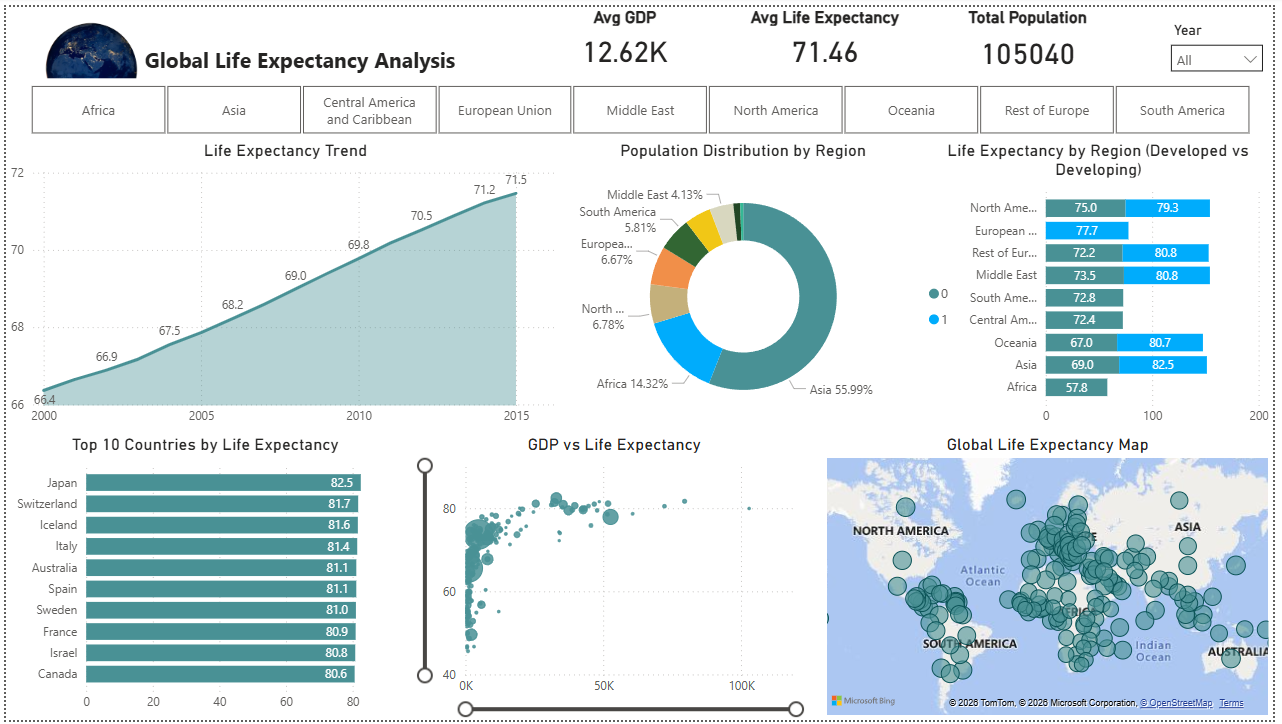

This screenshot's page, from the dashboard's own definition file:
{"tool":"powerbi","page":{"name":"Page 1","canvas":[1280,720],"ordinal":0},"visuals":[{"type":"textbox","box":[0,0,523.2,80.8],"z":0},{"type":"kpi","title":"Avg GDP","fields":{"Indicator":["DateTable.Avg GDP"],"TrendLine":["DateTable.Year"]},"box":[531.3,0,187.4,72.7],"z":0,"group":"g4"},{"type":"barChart","title":"Top 10 Countries by Life Expectancy","fields":{"Y":["DateTable.Avg Life Expectancy"],"Category":["Life-Expectancy-Data-Updated.Country"]},"box":[0,431.3,402.9,288.9],"z":0,"group":"g5"},{"type":"image","box":[28.3,0,115.2,80.8],"z":1000},{"type":"kpi","title":"Avg Life Expectancy","fields":{"Indicator":["DateTable.Avg Life Expectancy"],"TrendLine":["DateTable.Year"]},"box":[727.4,0,199.9,72.7],"z":1000,"group":"g4"},{"type":"scatterChart","title":"GDP vs Life Expectancy","fields":{"X":["DateTable.Avg GDP"],"Y":["DateTable.Avg Life Expectancy"],"Size":["DateTable.Total Population"],"Category":["Life-Expectancy-Data-Updated.Country"]},"box":[411.9,431.3,404.9,288.9],"z":1000,"group":"g5"},{"type":"card","title":"Total Population","fields":{"Values":["DateTable.Total Population"]},"box":[936.9,0,189.3,72.7],"z":2000,"group":"g4"},{"type":"group","id":"g1","title":"Group 1","box":[0,134.3,1279.8,297],"z":2000},{"type":"map","title":"Global Life Expectancy Map","fields":{"Category":["Life-Expectancy-Data-Updated.Country"],"Size":["DateTable.Avg Life Expectancy"]},"box":[823.9,431.3,455.9,288.9],"z":2000,"group":"g5"},{"type":"slicer","title":"Year","fields":{"Values":["DateTable.Year"]},"box":[1166.7,10.1,113.1,75.8],"z":3000},{"type":"lineChart","title":"Life Expectancy Trend","fields":{"Y":["DateTable.Avg Life Expectancy"],"Category":["DateTable.Year"]},"box":[0,134.3,565,297.1],"z":3000,"group":"g1"},{"type":"slicer","fields":{"Values":["Life-Expectancy-Data-Updated.Region"]},"box":[0,72.7,1279.8,61.6],"z":4000},{"type":"group","id":"g2","title":"Group 2","box":[531.3,0,594.9,72.7],"z":5000},{"type":"donutChart","title":"Population Distribution by Region","fields":{"Category":["Life-Expectancy-Data-Updated.Region"],"Y":["DateTable.Total Population"]},"box":[573,134.3,344,297.1],"z":5000,"group":"g1"},{"type":"group","id":"g3","title":"Group 3","box":[0,431.3,1279.8,288.9],"z":6000},{"type":"group","id":"g4","title":"Group 5","box":[531.3,0,594.9,72.7],"z":6001,"group":"g2"},{"type":"group","id":"g5","title":"Group 4","box":[0,431.3,1279.8,288.9],"z":6001,"group":"g3"},{"type":"barChart","title":"Life Expectancy by Region (Developed vs Developing)","fields":{"Category":["Life-Expectancy-Data-Updated.Region"],"Y":["DateTable.Avg Life Expectancy"],"Series":["Life-Expectancy-Data-Updated.developied & developoing"]},"box":[926,134.3,354,297.1],"z":8000,"group":"g1"}]}

Visuals, with their boxes in screenshot pixels (x1, y1, x2, y2), scaled from the page's 1280x720 canvas onto the 1282x724 screenshot:
textbox: {"left": 0, "top": 0, "right": 524, "bottom": 81}
"Avg GDP" kpi: {"left": 532, "top": 0, "right": 720, "bottom": 73}
"Top 10 Countries by Life Expectancy" barChart: {"left": 0, "top": 434, "right": 404, "bottom": 723}
image: {"left": 28, "top": 0, "right": 144, "bottom": 81}
"Avg Life Expectancy" kpi: {"left": 729, "top": 0, "right": 929, "bottom": 73}
"GDP vs Life Expectancy" scatterChart: {"left": 413, "top": 434, "right": 818, "bottom": 723}
"Total Population" card: {"left": 938, "top": 0, "right": 1128, "bottom": 73}
"Group 1" group: {"left": 0, "top": 135, "right": 1281, "bottom": 434}
"Global Life Expectancy Map" map: {"left": 825, "top": 434, "right": 1281, "bottom": 723}
"Year" slicer: {"left": 1169, "top": 10, "right": 1281, "bottom": 86}
"Life Expectancy Trend" lineChart: {"left": 0, "top": 135, "right": 566, "bottom": 434}
slicer - Life-Expectancy-Data-Updated.Region: {"left": 0, "top": 73, "right": 1281, "bottom": 135}
"Group 2" group: {"left": 532, "top": 0, "right": 1128, "bottom": 73}
"Population Distribution by Region" donutChart: {"left": 574, "top": 135, "right": 918, "bottom": 434}
"Group 3" group: {"left": 0, "top": 434, "right": 1281, "bottom": 723}
"Group 5" group: {"left": 532, "top": 0, "right": 1128, "bottom": 73}
"Group 4" group: {"left": 0, "top": 434, "right": 1281, "bottom": 723}
"Life Expectancy by Region (Developed vs Developing)" barChart: {"left": 927, "top": 135, "right": 1281, "bottom": 434}
